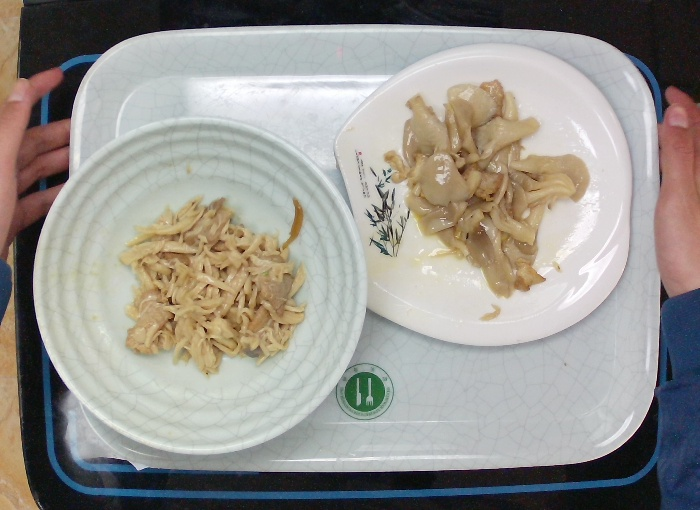JYsf-Da_Tang_Wan: (33, 114, 368, 455)
JYsf-Mian_Pan: (335, 34, 631, 346)
